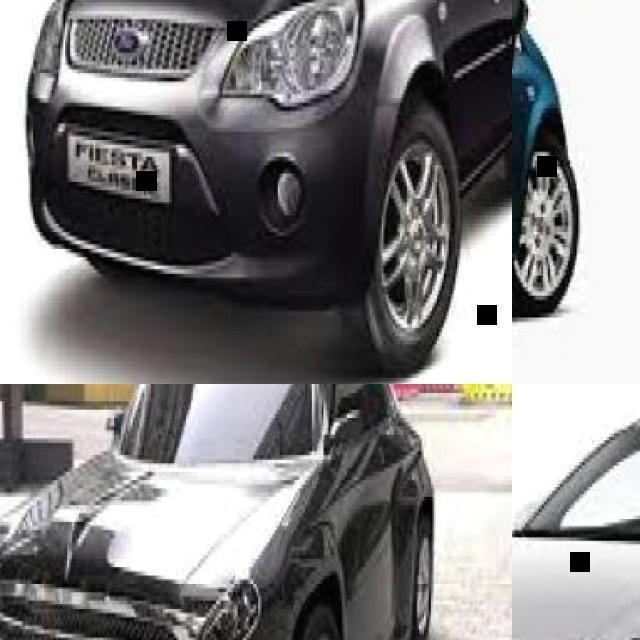car: (25, 0, 512, 368), (5, 368, 422, 640), (511, 412, 640, 640), (515, 32, 577, 356)
